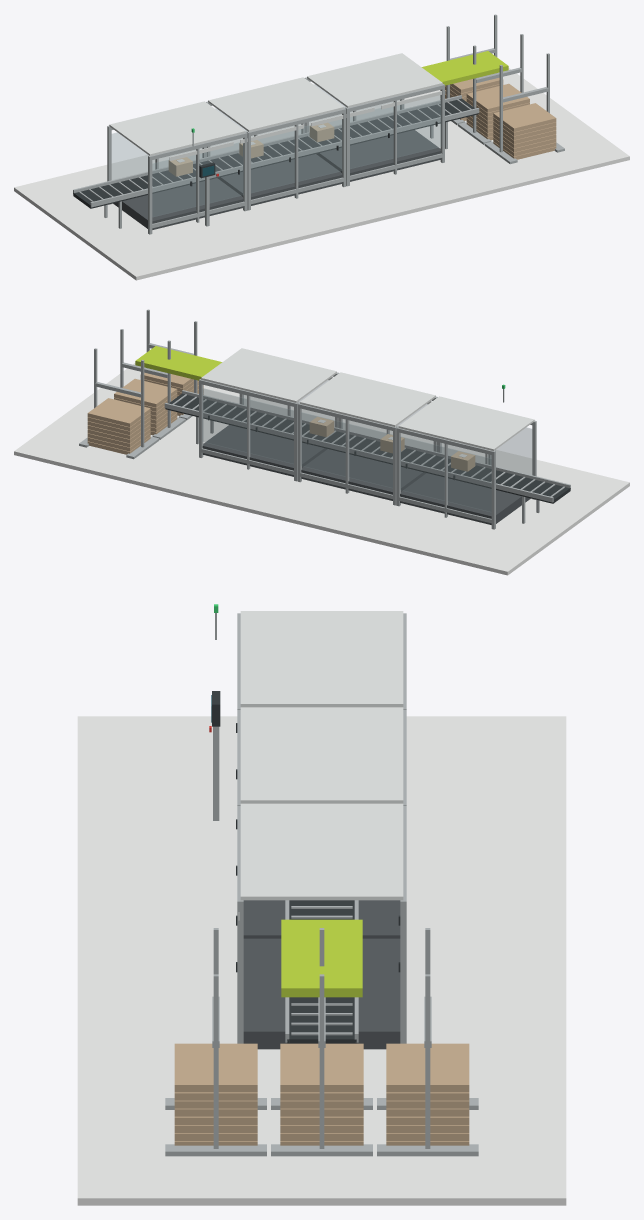
The picture shows the model from 3 angles, top to bottom: view 1: azimuth 30°, elevation 25°; view 2: azimuth 150°, elevation 25°; view 3: azimuth 270°, elevation 25°; orthographic projection. The views are drawn at different scales.
Parts seen in each view (by area): view 1: Factory floor, X5 output conveyor deck, X5 module 2 roof, X5 module 3 roof, X5 module 1 roof, X5 module 1 base, X5 module 2 base, X5 module 3 base, X5 module 2 transparent safety window.001, X5 module 3 transparent safety window.001, X5 module 1 transparent safety window, X5 module 3 transparent safety window (+17 smaller); view 2: Factory floor, X5 output conveyor deck, X5 module 1 roof, X5 module 2 roof, X5 module 3 roof, X5 module 1 base, X5 module 2 base, X5 module 3 base, X5 module 1 transparent safety window.003, X5 module 3 transparent safety window.003, X5 module 2 transparent safety window.003, X5 module 2 transparent safety window.002 (+22 smaller); view 3: Factory floor, X5 module 3 roof, X5 module 2 roof, X5 module 1 roof, X5 module 3 base, Fanfold feed bridge, Fanfold stacked corrugate.015, Fanfold stacked corrugate.007, Fanfold stacked corrugate.023, X5 output conveyor deck, X5 module 2 base, Material rack foot.003 (+7 smaller).
Part boxes in pixels (x1,y1,x2,y2): Factory floor: (14,68,629,280); X5 output conveyor deck: (73,98,478,208); X5 module 2 roof: (208,77,343,131); X5 module 3 roof: (307,53,442,107); X5 module 1 roof: (109,101,245,155); X5 module 1 base: (113,178,243,229); X5 module 2 base: (217,154,342,205); X5 module 3 base: (316,130,441,181); X5 module 2 transparent safety window.001: (298,119,342,181); X5 module 3 transparent safety window.001: (397,95,441,157); X5 module 1 transparent safety window: (152,155,195,216); X5 module 3 transparent safety window: (350,107,393,168); Factory floor: (14,363,629,575); X5 output conveyor deck: (165,393,570,503); X5 module 1 roof: (398,396,534,450); X5 module 2 roof: (300,372,435,426); X5 module 3 roof: (201,348,336,402); X5 module 1 base: (400,473,530,524); X5 module 2 base: (301,449,426,500); X5 module 3 base: (202,425,327,476); X5 module 1 transparent safety window.003: (400,436,444,500); X5 module 3 transparent safety window.003: (202,388,246,452); X5 module 2 transparent safety window.003: (301,412,345,476); X5 module 2 transparent safety window.002: (349,424,392,487); Factory floor: (77,716,566,1205); X5 module 3 roof: (240,803,403,900); X5 module 2 roof: (240,707,403,803); X5 module 1 roof: (240,611,403,707); X5 module 3 base: (243,938,400,1049); Fanfold feed bridge: (281,919,362,997); Fanfold stacked corrugate.015: (280,1043,363,1092); Fanfold stacked corrugate.007: (174,1043,257,1092); Fanfold stacked corrugate.023: (386,1043,469,1092); X5 output conveyor deck: (287,900,356,1043); X5 module 2 base: (243,900,400,938); Material rack foot.003: (271,1144,372,1156).
Size of the model in its own units: 14 by 2.82 by 6.
